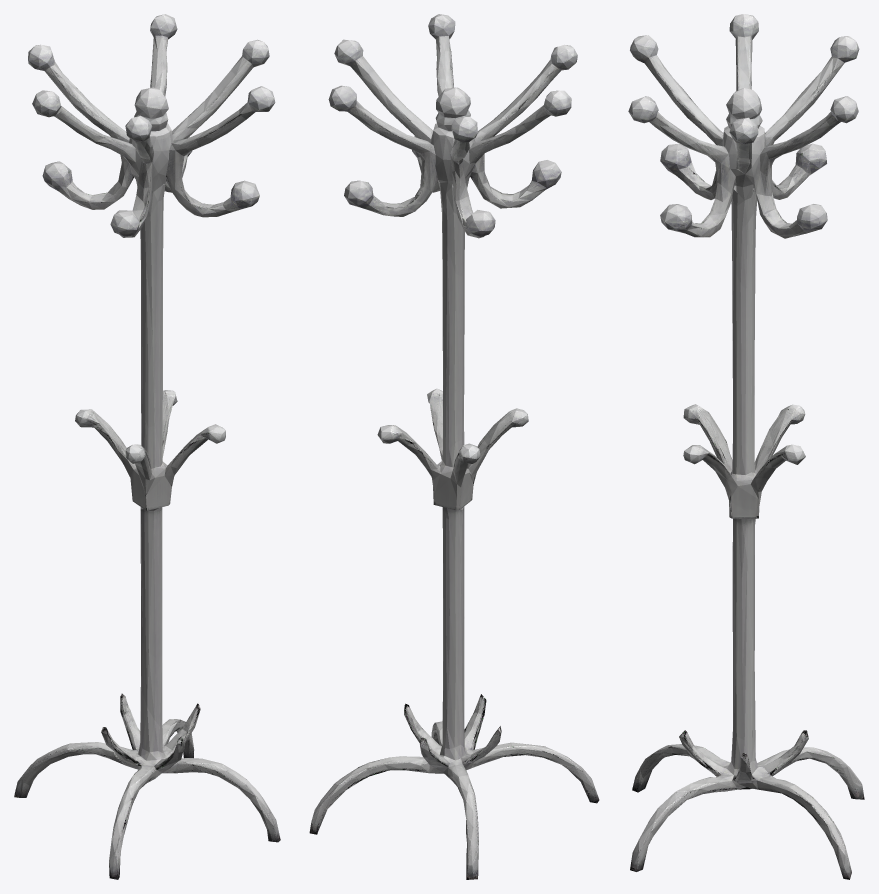
The picture shows the model from 3 angles, left to right: view 1: azimuth 30°, elevation 25°; view 2: azimuth 150°, elevation 25°; view 3: azimuth 270°, elevation 25°; orthographic projection. The views are drawn at different scales.
Visible parts, largest first — view 1: world; view 2: world; view 3: world.
Part boxes in pixels (<box>): world: <box>14,14,280,879</box>; world: <box>309,14,599,879</box>; world: <box>628,14,864,879</box>.
Size of the model in its own units: 0.3244 by 1 by 0.2788.
Materials: 1 (1 with a texture image).
